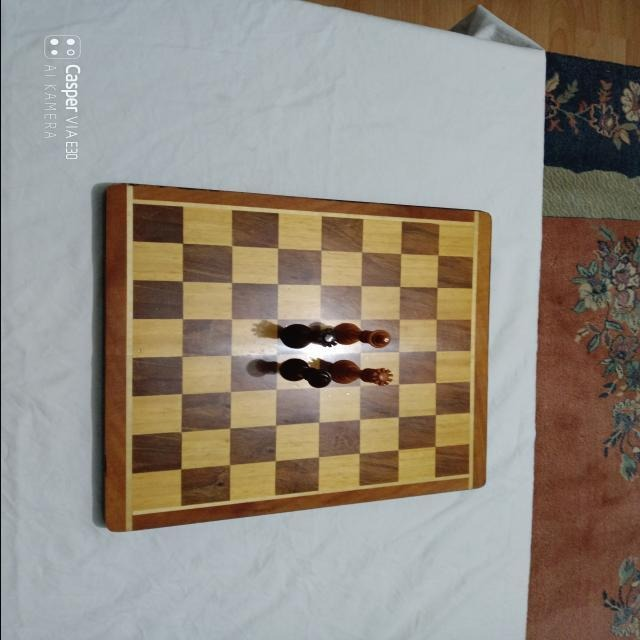black-king: (279, 357, 333, 389)
black-queen: (279, 323, 340, 349)
white-king: (331, 322, 393, 348)
white-queen: (330, 359, 394, 387)
